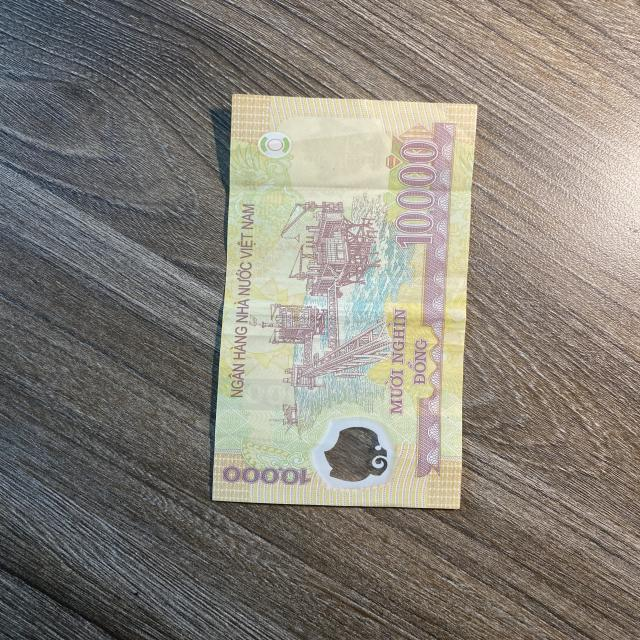10 000 VND: (199, 86, 489, 523)
